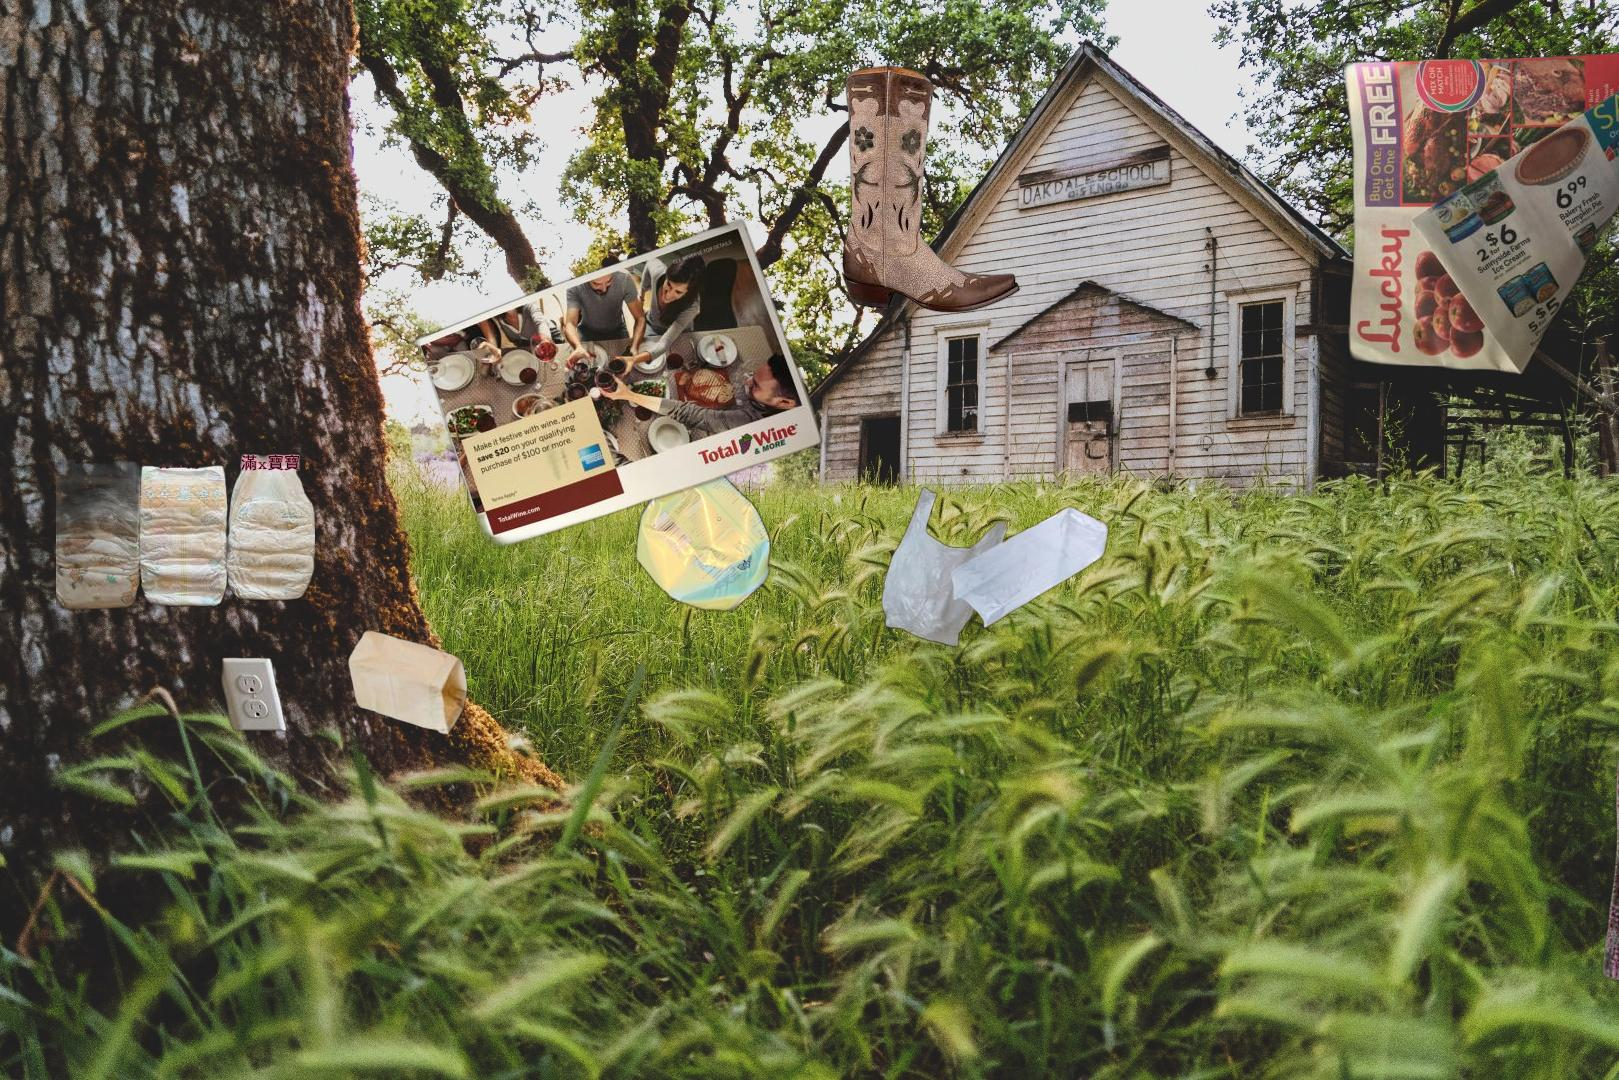clothes: (1599, 579, 1619, 997)
metal-cans: (632, 466, 775, 618)
paper: (383, 215, 825, 573), (1339, 14, 1619, 377)
paper-bag: (212, 627, 470, 738)
plastic-bag: (879, 485, 1110, 650)
shoes: (840, 64, 1023, 315)
trash: (55, 422, 315, 616)
